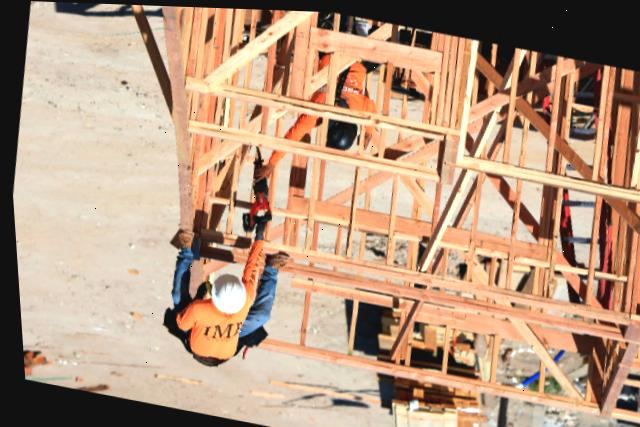helmet: (203, 271, 243, 308)
